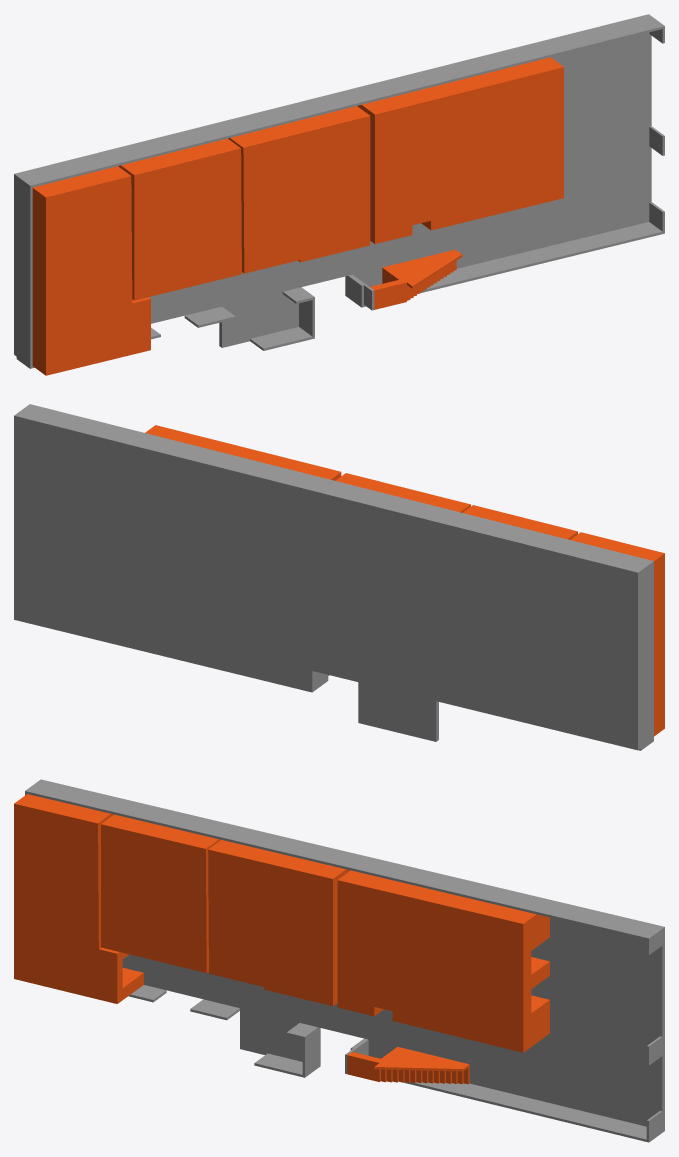
Rendered from Edificio B - Piso 1.obj.
The picture shows the model from 3 angles, top to bottom: view 1: azimuth 30°, elevation 25°; view 2: azimuth 150°, elevation 25°; view 3: azimuth 330°, elevation 25°; orthographic projection.
Visible parts, largest first — view 1: Cuerpo98, Cuerpo79, Cuerpo78, Cuerpo77, Cuerpo76, Cuerpo69, Cuerpo73, Cuerpo97, Cuerpo74, Cuerpo72; view 2: Cuerpo98, Cuerpo69, Cuerpo78, Cuerpo79, Cuerpo77, Cuerpo76; view 3: Cuerpo98, Cuerpo79, Cuerpo78, Cuerpo77, Cuerpo76, Cuerpo69, Cuerpo73, Cuerpo97, Cuerpo74, Cuerpo72.
Boxes of the visible parts, x1,y1,x2,y2 form: Cuerpo98: (14, 14, 651, 356); Cuerpo79: (357, 57, 563, 243); Cuerpo78: (32, 166, 150, 375); Cuerpo77: (228, 106, 370, 273); Cuerpo76: (118, 138, 241, 300); Cuerpo69: (16, 16, 664, 368); Cuerpo73: (348, 222, 664, 310); Cuerpo97: (370, 249, 462, 309); Cuerpo74: (250, 287, 314, 350); Cuerpo72: (184, 306, 235, 327); Cuerpo98: (14, 414, 640, 750); Cuerpo69: (17, 404, 653, 750); Cuerpo78: (570, 532, 664, 736); Cuerpo79: (145, 425, 341, 480); Cuerpo77: (335, 473, 470, 512); Cuerpo76: (462, 505, 577, 539); Cuerpo98: (38, 779, 664, 1132); Cuerpo79: (337, 870, 549, 1052); Cuerpo78: (14, 794, 143, 1003); Cuerpo77: (208, 840, 350, 1006); Cuerpo76: (101, 814, 220, 973); Cuerpo69: (25, 781, 662, 1002); Cuerpo73: (345, 1038, 662, 1142); Cuerpo97: (347, 1046, 469, 1084); Cuerpo74: (254, 1023, 317, 1077); Cuerpo72: (190, 999, 239, 1020).
Size of the model in its own units: 13.6 by 4.65 by 1.1.
